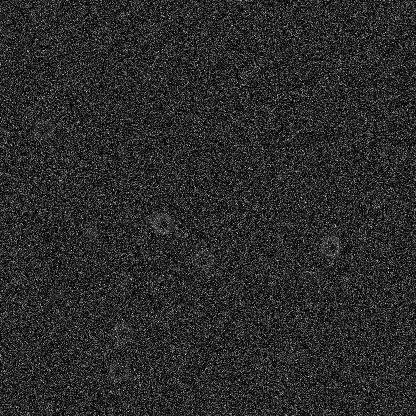Ring: (110, 321, 134, 345), (106, 359, 130, 383), (318, 234, 342, 258), (191, 247, 215, 271), (31, 117, 55, 141), (150, 211, 174, 235)
Spot: (8, 245, 24, 261), (298, 267, 314, 283), (149, 20, 165, 36), (115, 277, 131, 293), (140, 66, 156, 82), (363, 45, 379, 61), (83, 223, 99, 239)
